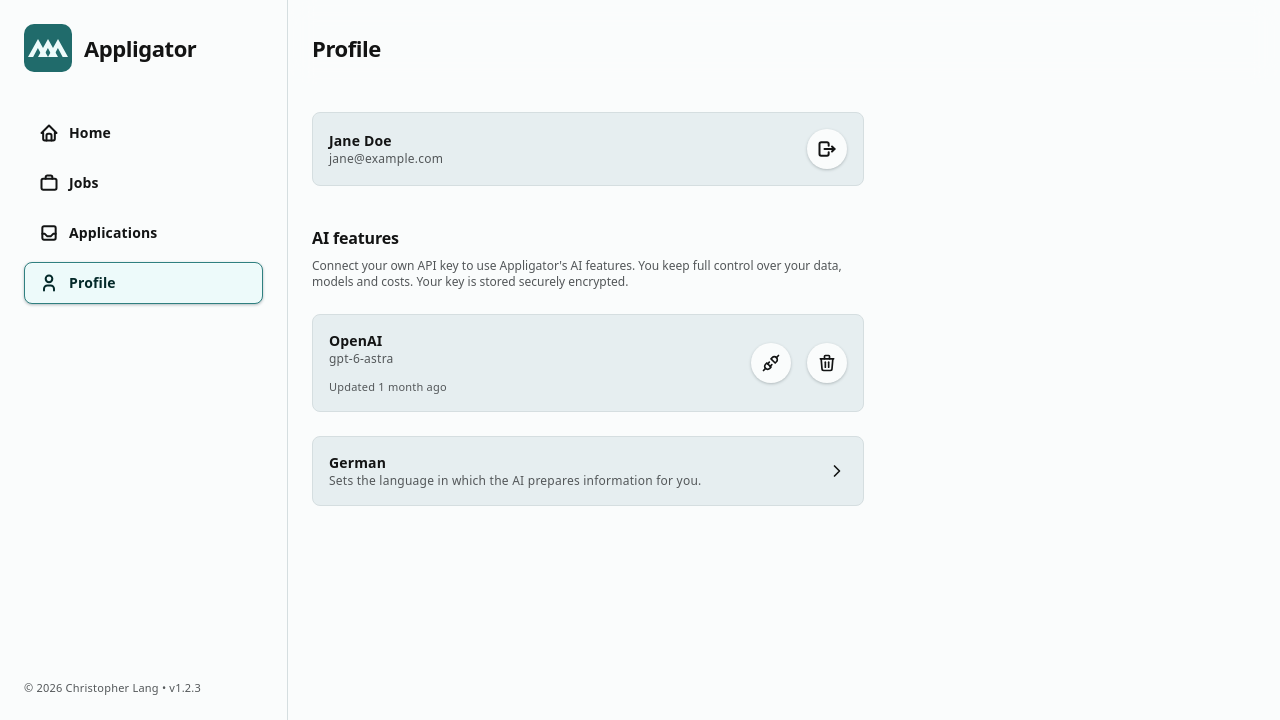
Test: edits the model while keeping the stored key
Click the button "OpenAI gpt-6-astra Updated 1 month ago" at (356, 340), box [313, 315, 735, 411]
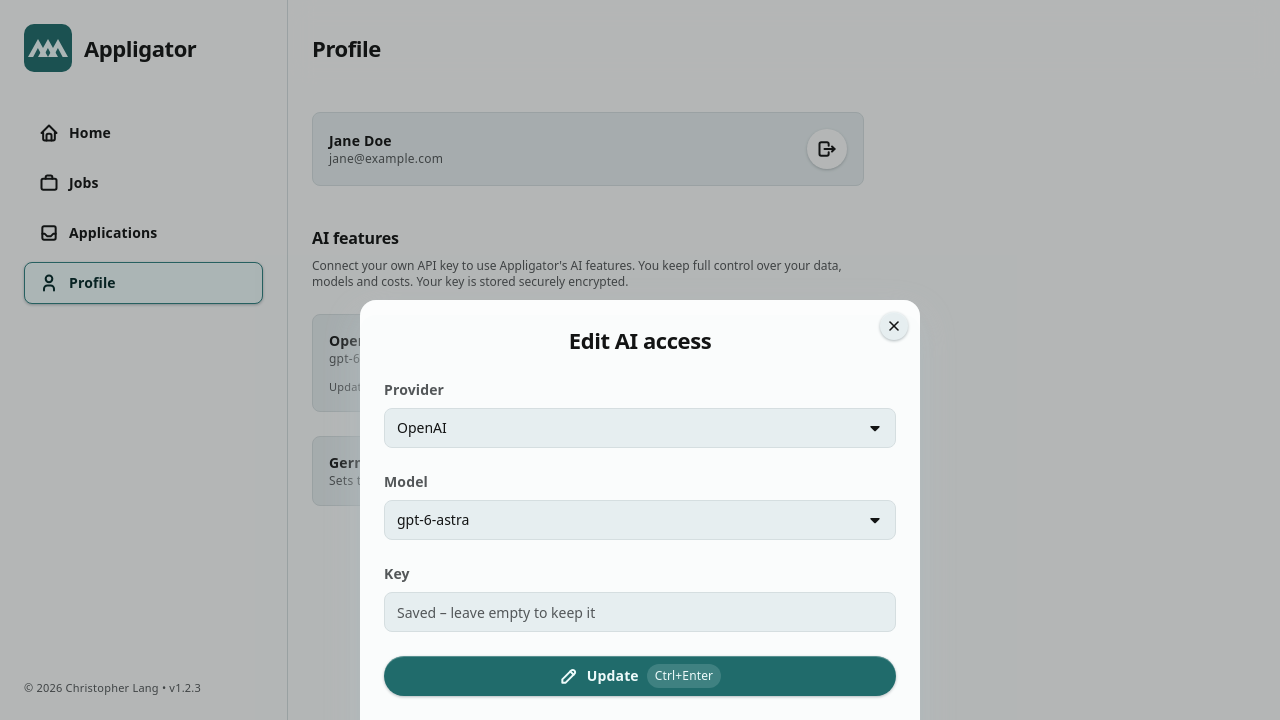
Check: the password field labelled "Key" is empty, box [384, 592, 896, 632]
Click the dropdown named "Model" at (433, 520), box [384, 500, 896, 540]
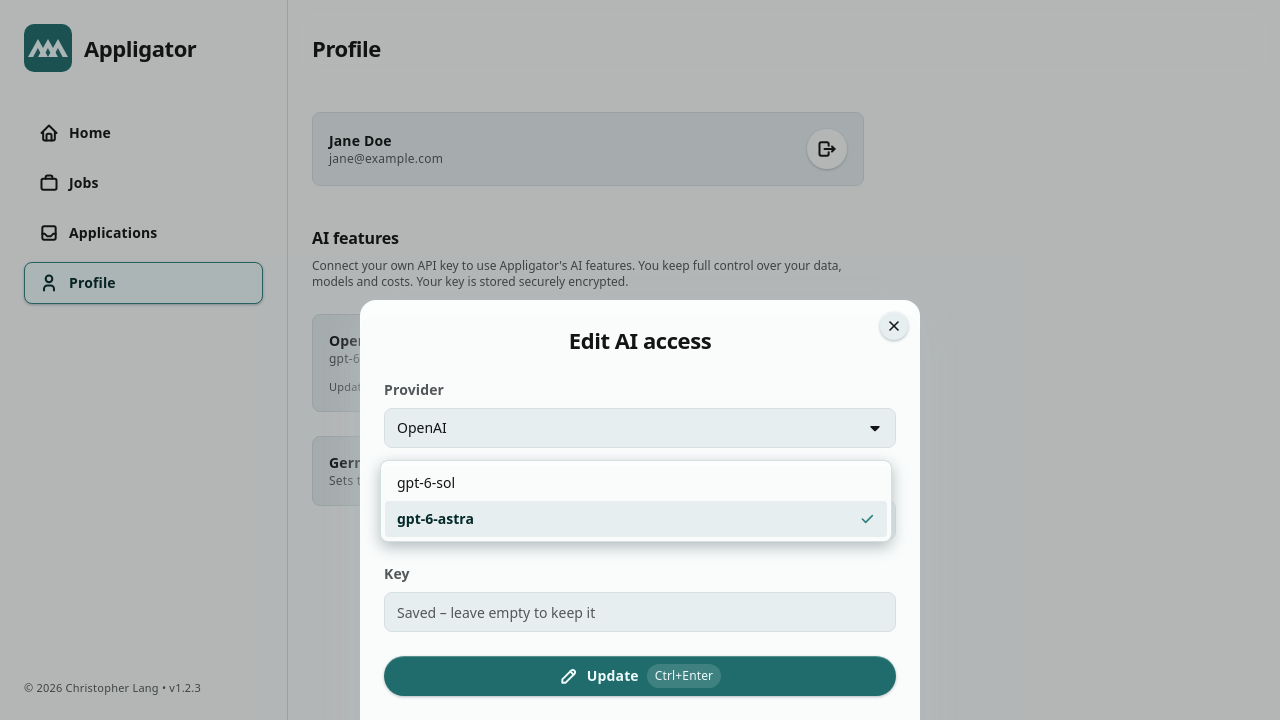
Click the option "gpt-6-sol" at (426, 482), box [397, 473, 455, 492]
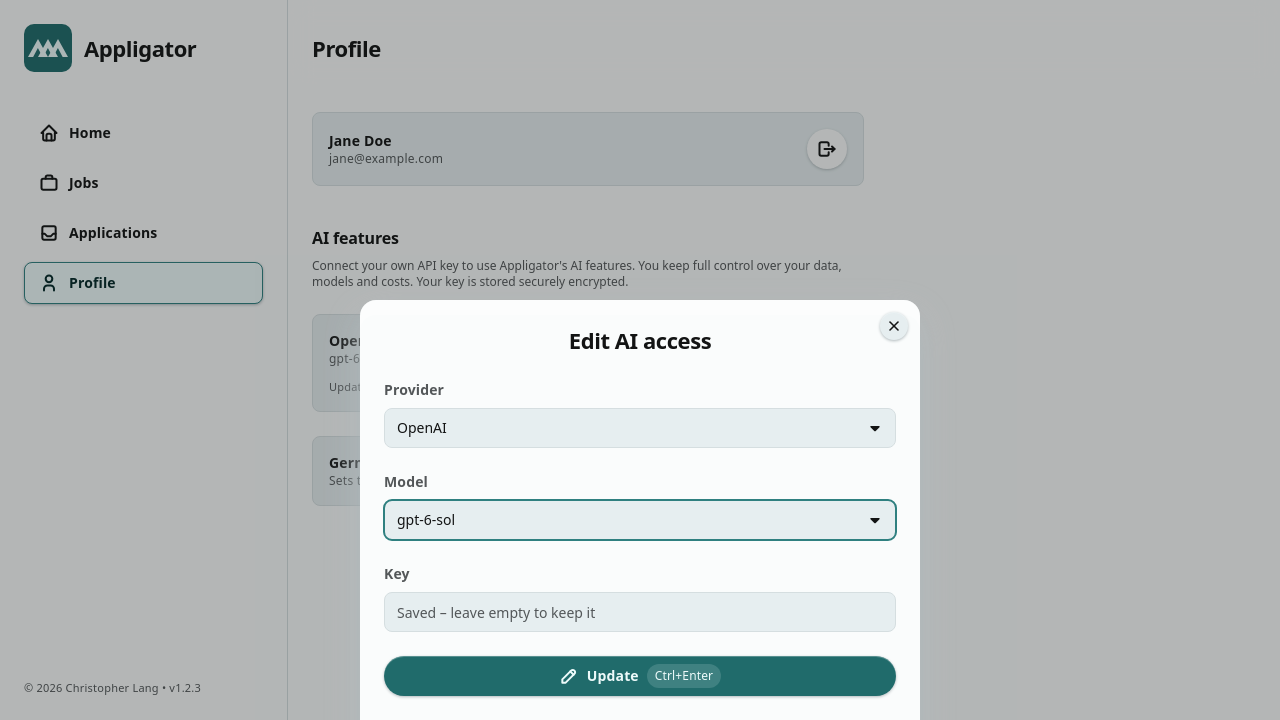
Click the button "Update Ctrl+Enter" at (640, 676), box [384, 656, 896, 696]
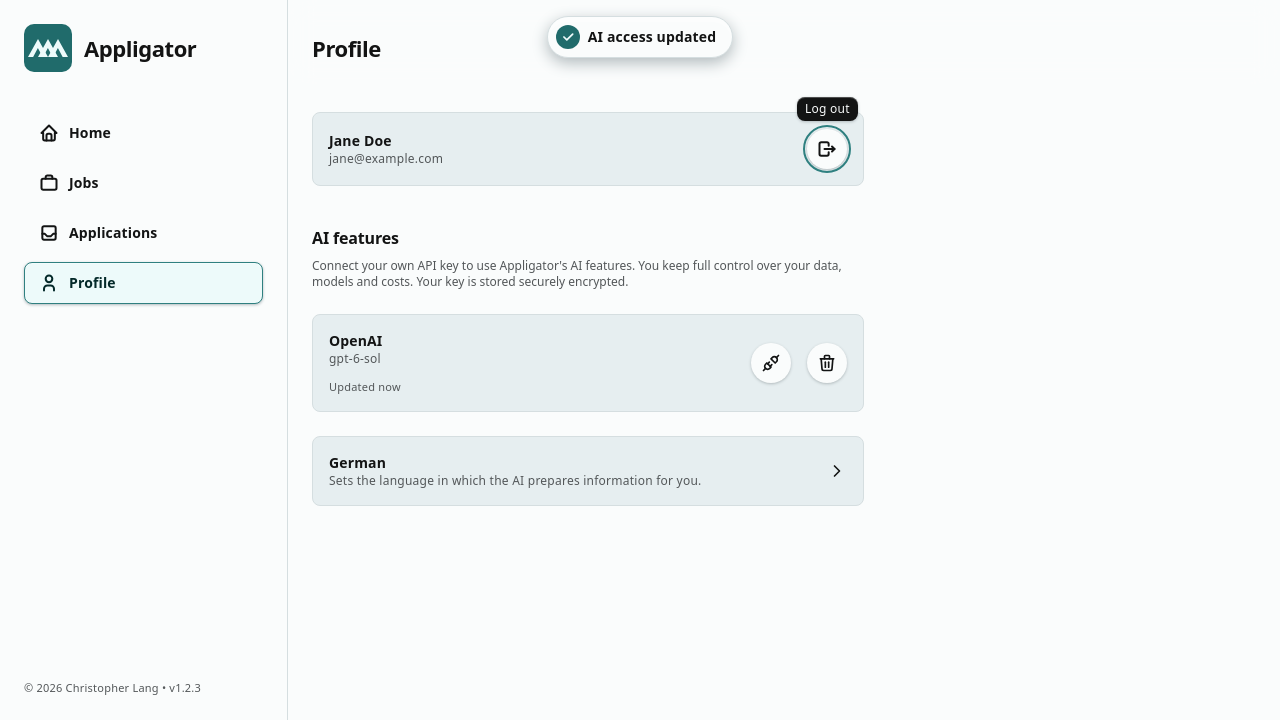
Check: the heading "AI access updated" is shown, box [588, 27, 716, 47]
